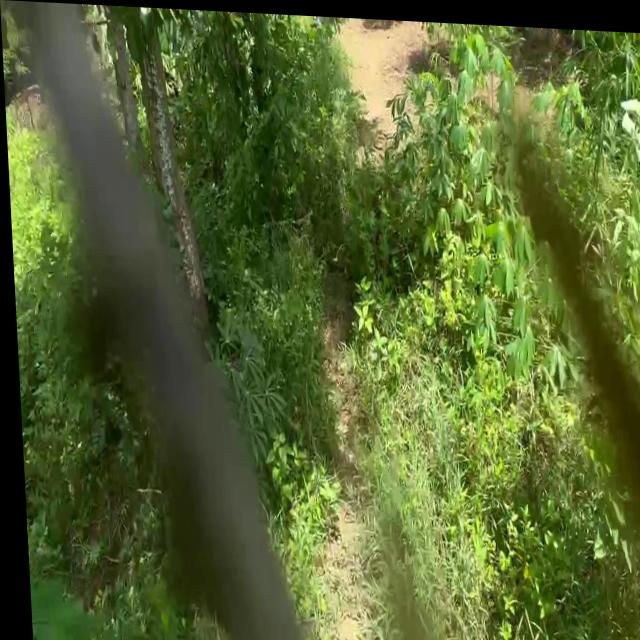Maleza: (297, 421, 530, 626), (12, 130, 128, 537), (442, 411, 640, 540), (465, 529, 640, 640), (349, 291, 475, 437)
